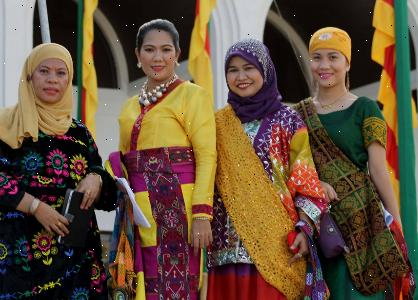malong: (103, 83, 219, 300), (198, 96, 316, 300), (0, 116, 115, 300), (307, 90, 400, 300)
